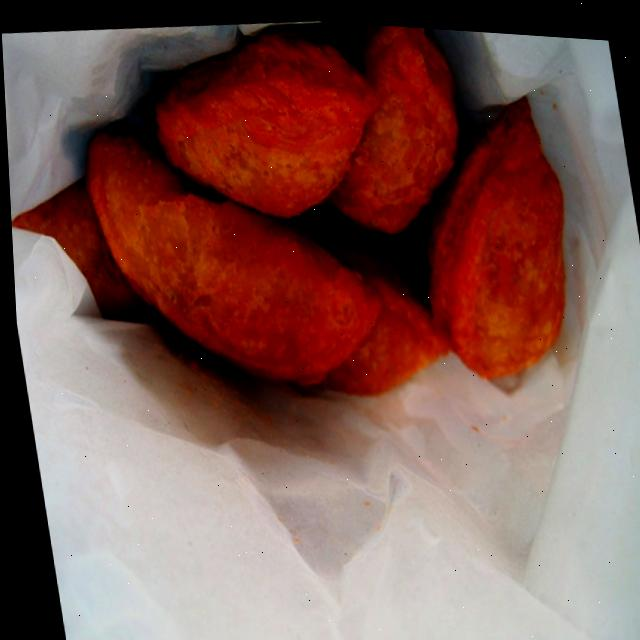炸货点心: (0, 0, 599, 459)
